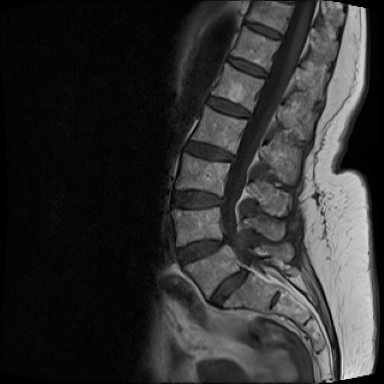Degenerative Disc Disease (DDD): (204, 266, 256, 315), (174, 233, 233, 275), (182, 137, 241, 168), (166, 188, 229, 215)
Lumbar Disc Bulge (LDB): (174, 232, 234, 273), (207, 266, 253, 314), (176, 138, 240, 166), (163, 187, 231, 211)
Normal IVD: (203, 93, 258, 125), (218, 54, 273, 83), (238, 17, 288, 46)
Spinal Stenosis (SS): (213, 189, 232, 215), (218, 229, 233, 253)
